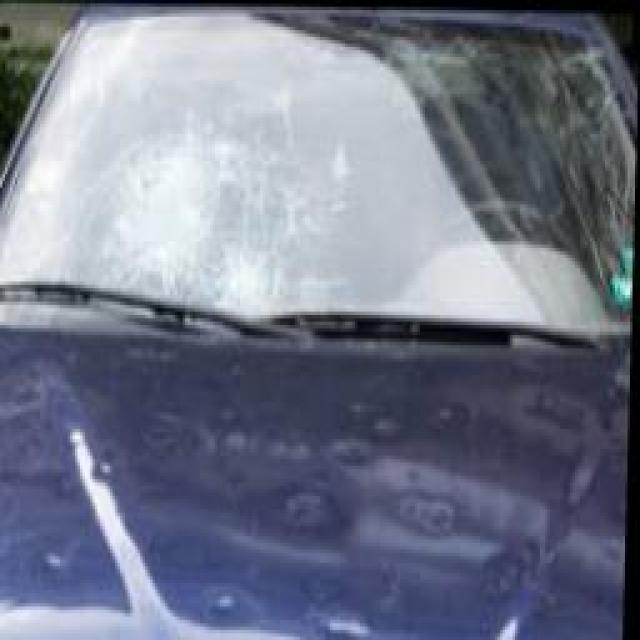rapairable: (178, 357, 507, 627)
replaceable: (72, 78, 384, 303)
